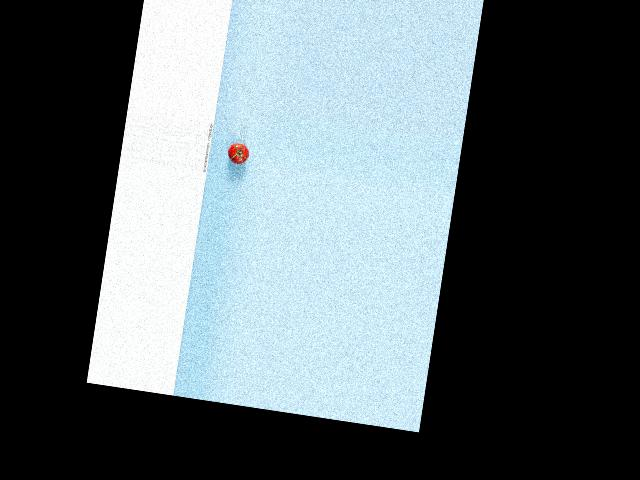tomato: (225, 141, 250, 164)
